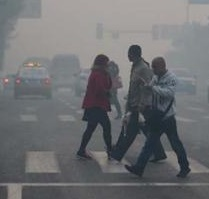person: (123, 56, 194, 177), (106, 42, 169, 163), (75, 53, 121, 160), (108, 60, 123, 119)
